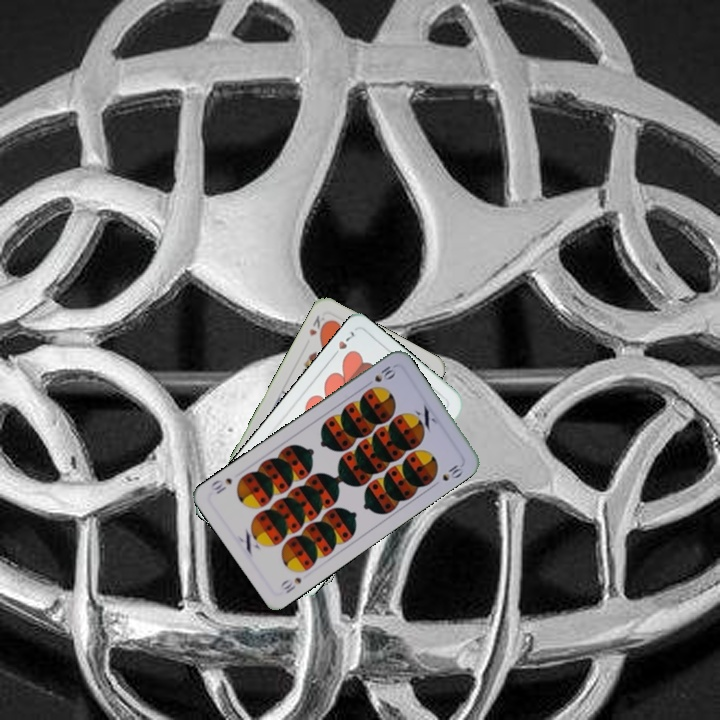H7: (328, 327, 357, 361)
HK: (305, 311, 330, 339)
S10: (361, 362, 399, 389), (276, 573, 304, 596)
